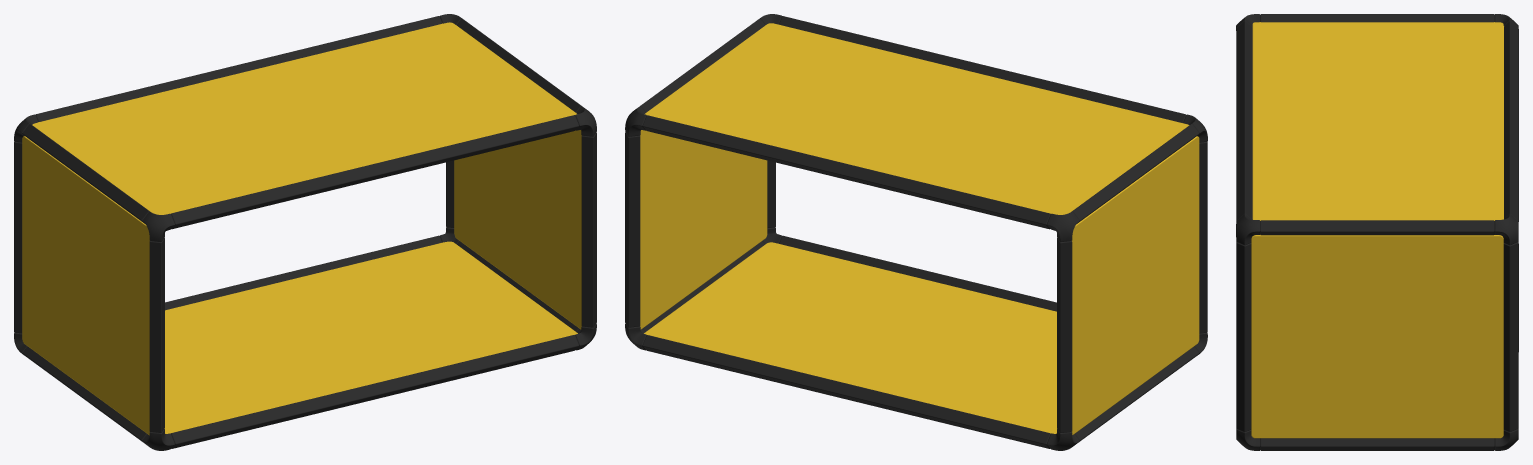
3 views of the same model, side by side, from view 1: azimuth 30°, elevation 25°; view 2: azimuth 150°, elevation 25°; view 3: azimuth 270°, elevation 25° (orthographic). The views are drawn at different scales.
Parts seen in each view (by area): view 1: 729x374x329; view 2: 729x374x329; view 3: 729x374x329.
Part boxes in pixels (x1=…): 729x374x329: x1=14, y1=14, x2=596, y2=450; 729x374x329: x1=625, y1=14, x2=1207, y2=450; 729x374x329: x1=1236, y1=14, x2=1518, y2=450.
Bounding box in the file's own units: 0.8067 × 0.4066 × 0.4513.
